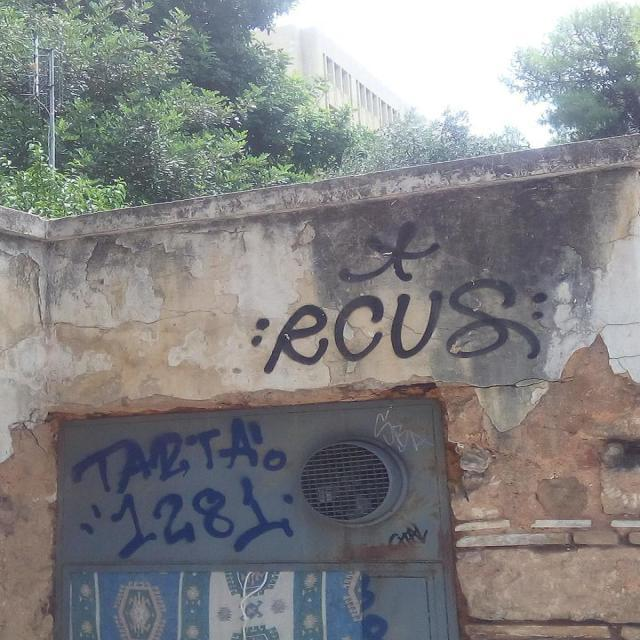nonspitting: (245, 222, 547, 374), (70, 414, 294, 562), (375, 408, 432, 452), (356, 572, 388, 640), (388, 521, 424, 553)
